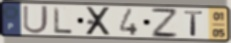4: (118, 7, 140, 37)
L: (52, 6, 74, 35)
T: (183, 10, 205, 37)
U: (21, 5, 50, 35)
X: (85, 6, 113, 37)
Z: (150, 7, 180, 39)
